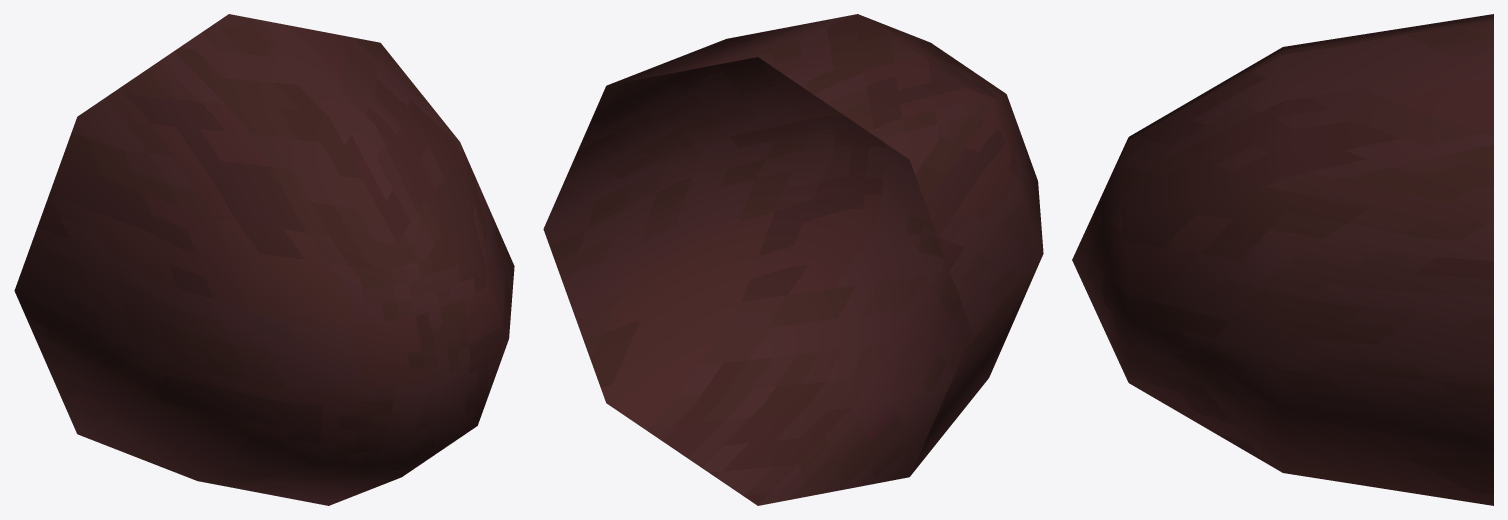
Rendered from t5_weapon_equip_light_red_unlit_LOD0.obj.
The picture shows the model from 3 angles, left to right: view 1: azimuth 30°, elevation 25°; view 2: azimuth 150°, elevation 25°; view 3: azimuth 270°, elevation 25°; orthographic projection. The views are drawn at different scales.
Visible parts, largest first — view 1: mtl_t5_weapon_equip_light_red_unlit; view 2: mtl_t5_weapon_equip_light_red_unlit; view 3: mtl_t5_weapon_equip_light_red_unlit.
Boxes of the visible parts, x1,y1,x2,y2 form: mtl_t5_weapon_equip_light_red_unlit: [14, 14, 514, 505]; mtl_t5_weapon_equip_light_red_unlit: [543, 14, 1043, 505]; mtl_t5_weapon_equip_light_red_unlit: [1072, 14, 1493, 505].
Size of the model in its own units: 1.47 by 1.47 by 1.18.
